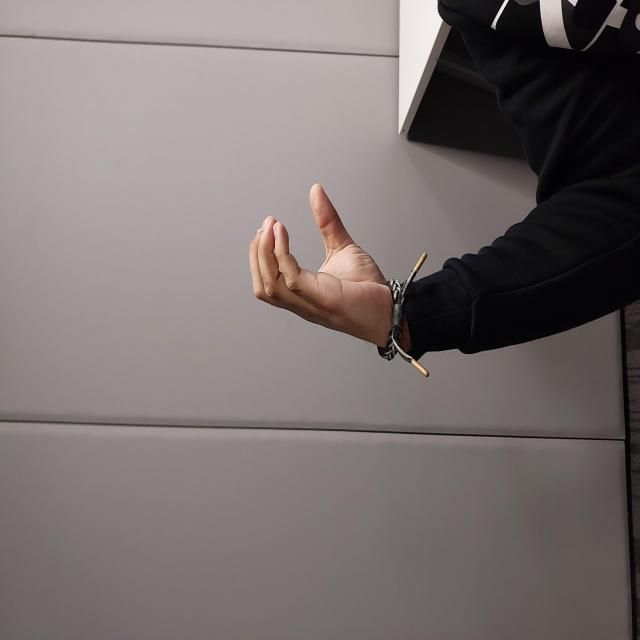C: (292, 248, 460, 393)
